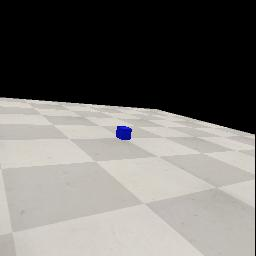box: (116, 126, 132, 140)
